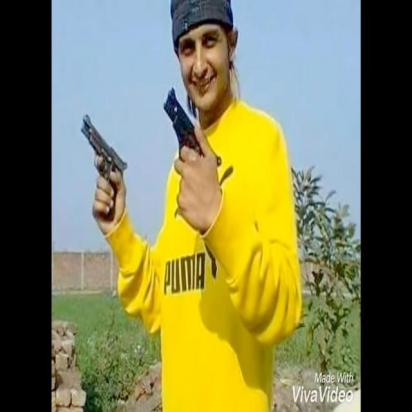Gun: (161, 86, 218, 218), (80, 114, 129, 223)
